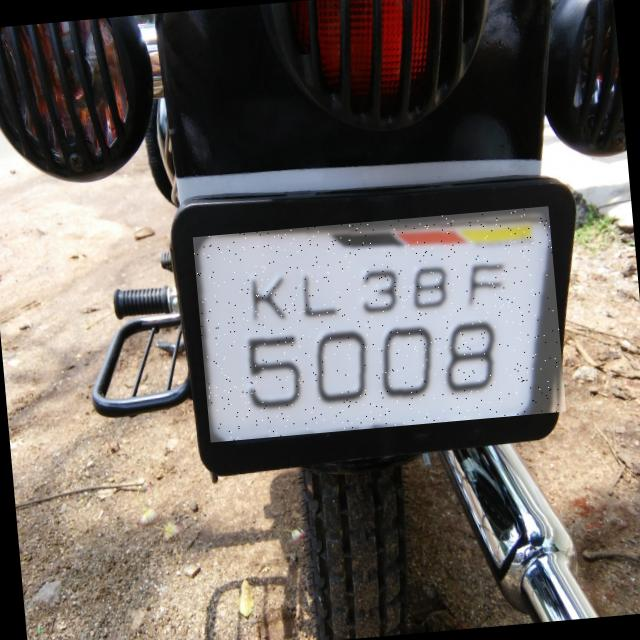Plate: (193, 207, 567, 443)
